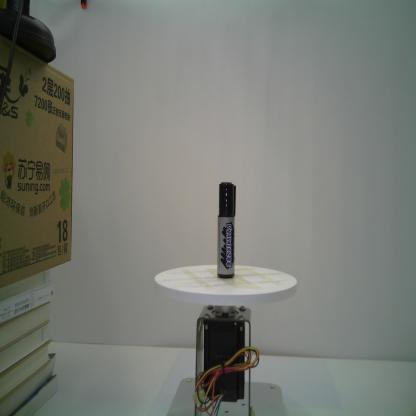Stationery: (216, 181, 236, 280)
